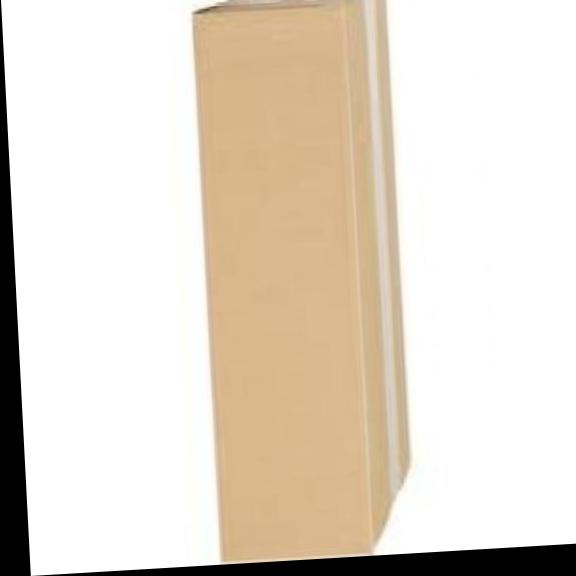Kertas: (194, 0, 410, 562)
